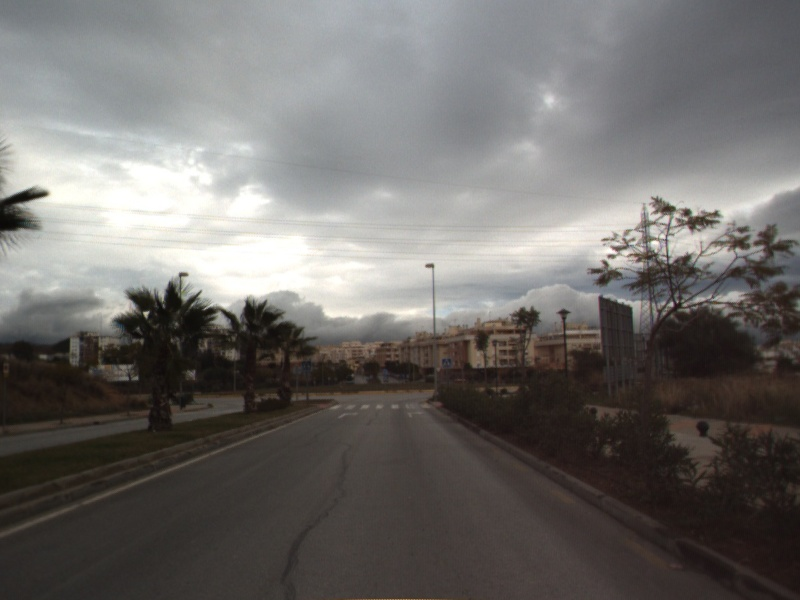RIGHT: (336, 409, 361, 420), (405, 409, 426, 420)
